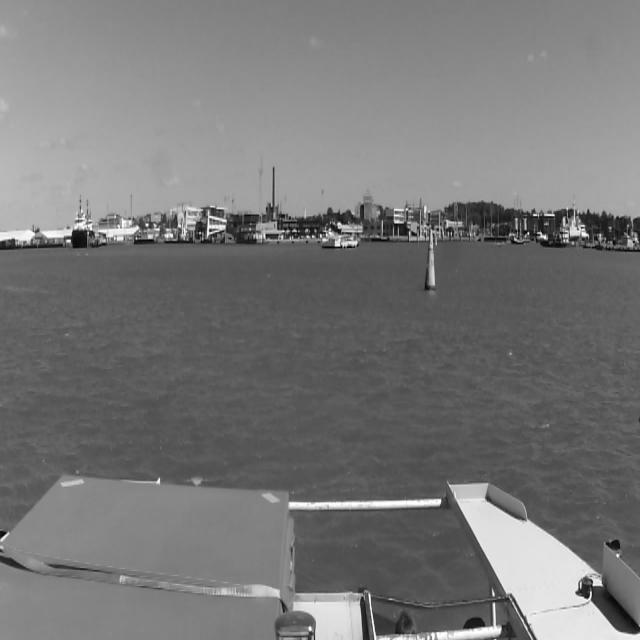buoy: (427, 228, 436, 289)
ship: (554, 196, 589, 247), (72, 197, 88, 250), (322, 229, 358, 248), (511, 194, 524, 244), (536, 231, 549, 244)
